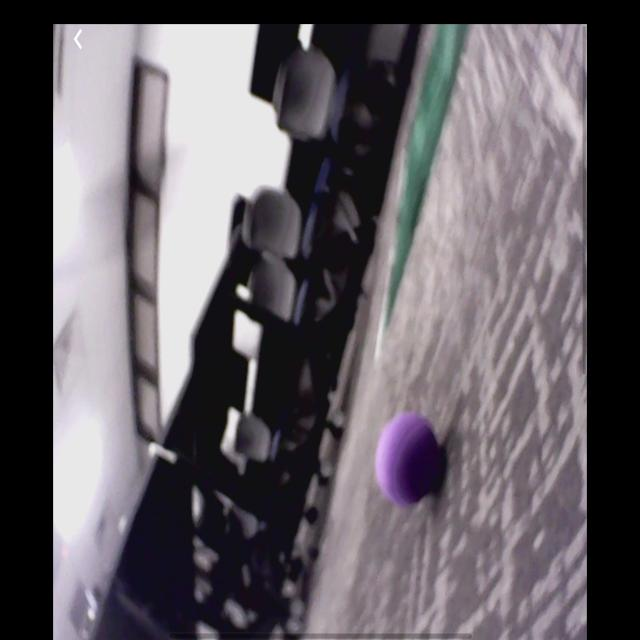ball: (377, 413, 442, 507)
